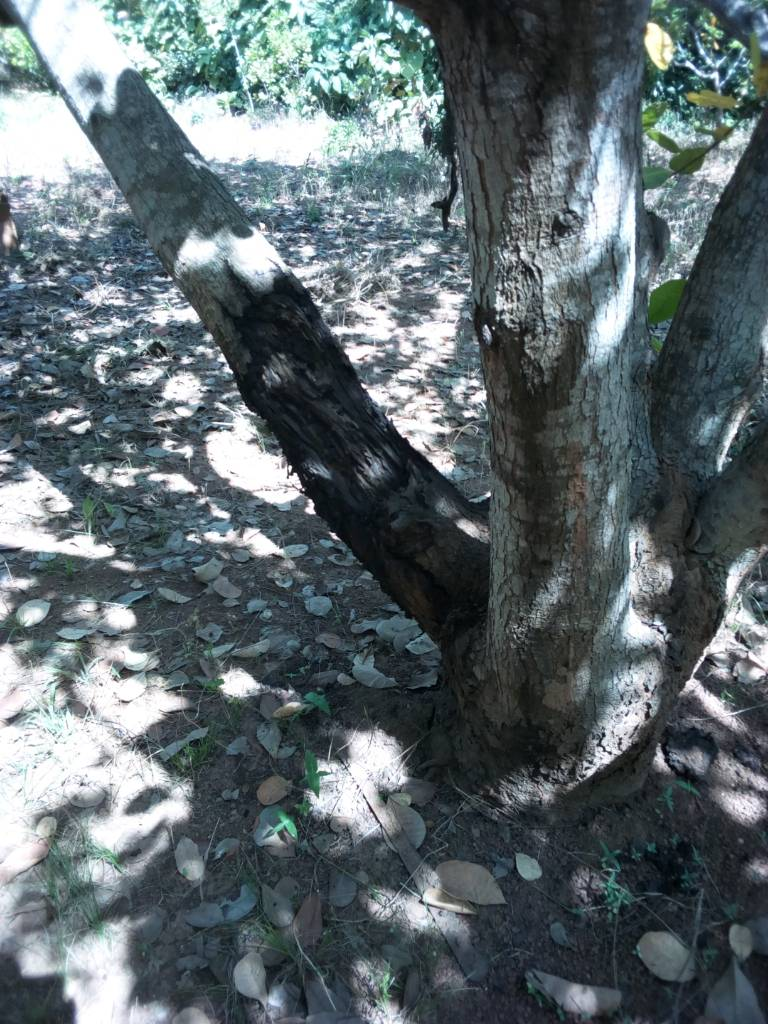Gommose: (229, 288, 419, 530)
